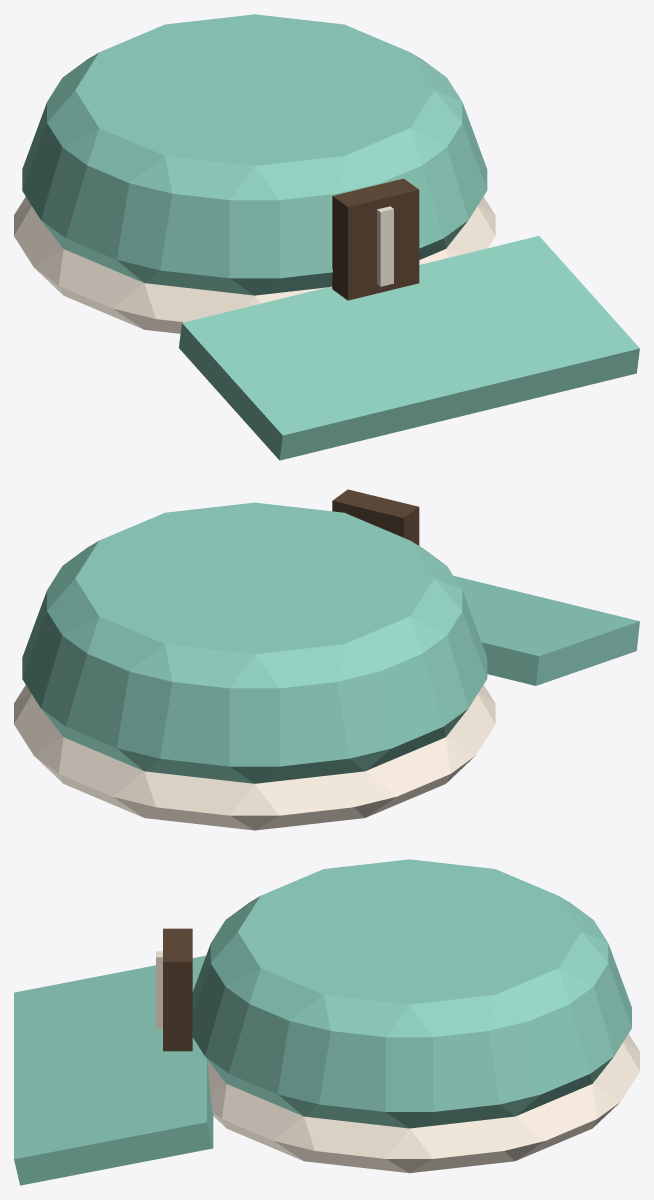
File: CatCafe_Accessory_BaristaCap.glb
The picture shows the model from 3 angles, top to bottom: view 1: azimuth 30°, elevation 25°; view 2: azimuth 150°, elevation 25°; view 3: azimuth 270°, elevation 25°; orthographic projection. The views are drawn at different scales.
Visible parts, largest first — view 1: CatCafe_Accessory_BaristaCap; view 2: CatCafe_Accessory_BaristaCap; view 3: CatCafe_Accessory_BaristaCap.
Part boxes in pixels (<box>): CatCafe_Accessory_BaristaCap: <box>14,14,639,460</box>; CatCafe_Accessory_BaristaCap: <box>14,489,639,830</box>; CatCafe_Accessory_BaristaCap: <box>14,859,639,1185</box>.
Size of the model in its own units: 0.4671 by 0.1905 by 0.6345.
Materials: 1 (1 with a texture image).
